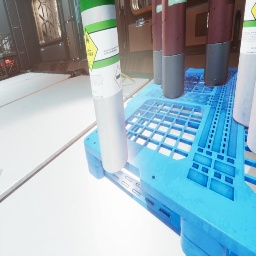0: (80, 0, 128, 173), (232, 0, 256, 127), (246, 79, 256, 155)
EmergencyPhone ,: (66, 36, 70, 45)
NitrogenTank ,: (204, 0, 235, 86), (162, 0, 187, 99), (152, 0, 163, 85), (185, 2, 187, 68)
